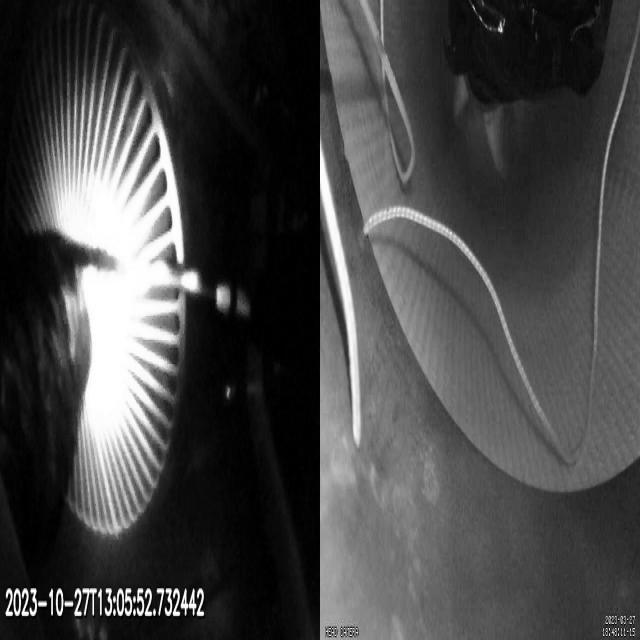white-dots: (214, 284, 250, 320)
